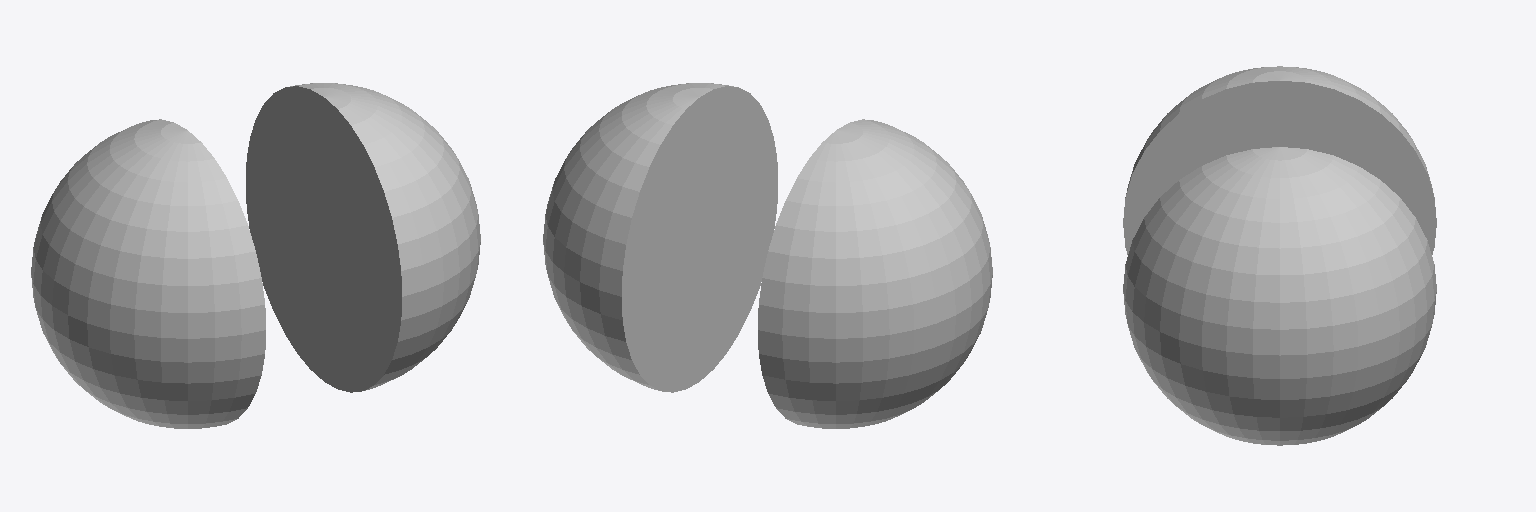
Rendered from latitudeHemispheres-fixed.obj.
3 views of the same model, side by side, from view 1: azimuth 30°, elevation 25°; view 2: azimuth 150°, elevation 25°; view 3: azimuth 270°, elevation 25° (orthographic).
Parts seen in each view (by area): view 1: polySurface1; view 2: polySurface1; view 3: polySurface1.
Boxes of the visible parts, x1=… form: polySurface1: x1=31, y1=83, x2=480, y2=428; polySurface1: x1=543, y1=83, x2=992, y2=428; polySurface1: x1=1123, y1=66, x2=1436, y2=445.
Bounding box in the file's own units: 24 × 16 × 16.